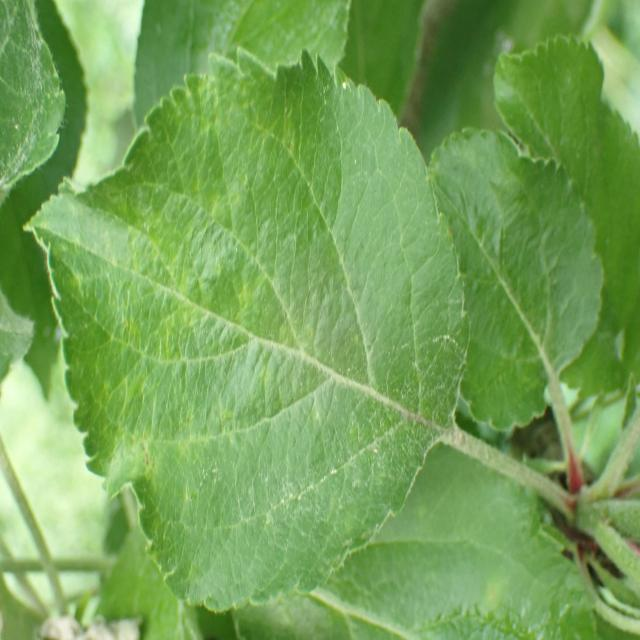scab: (61, 172, 462, 504)
